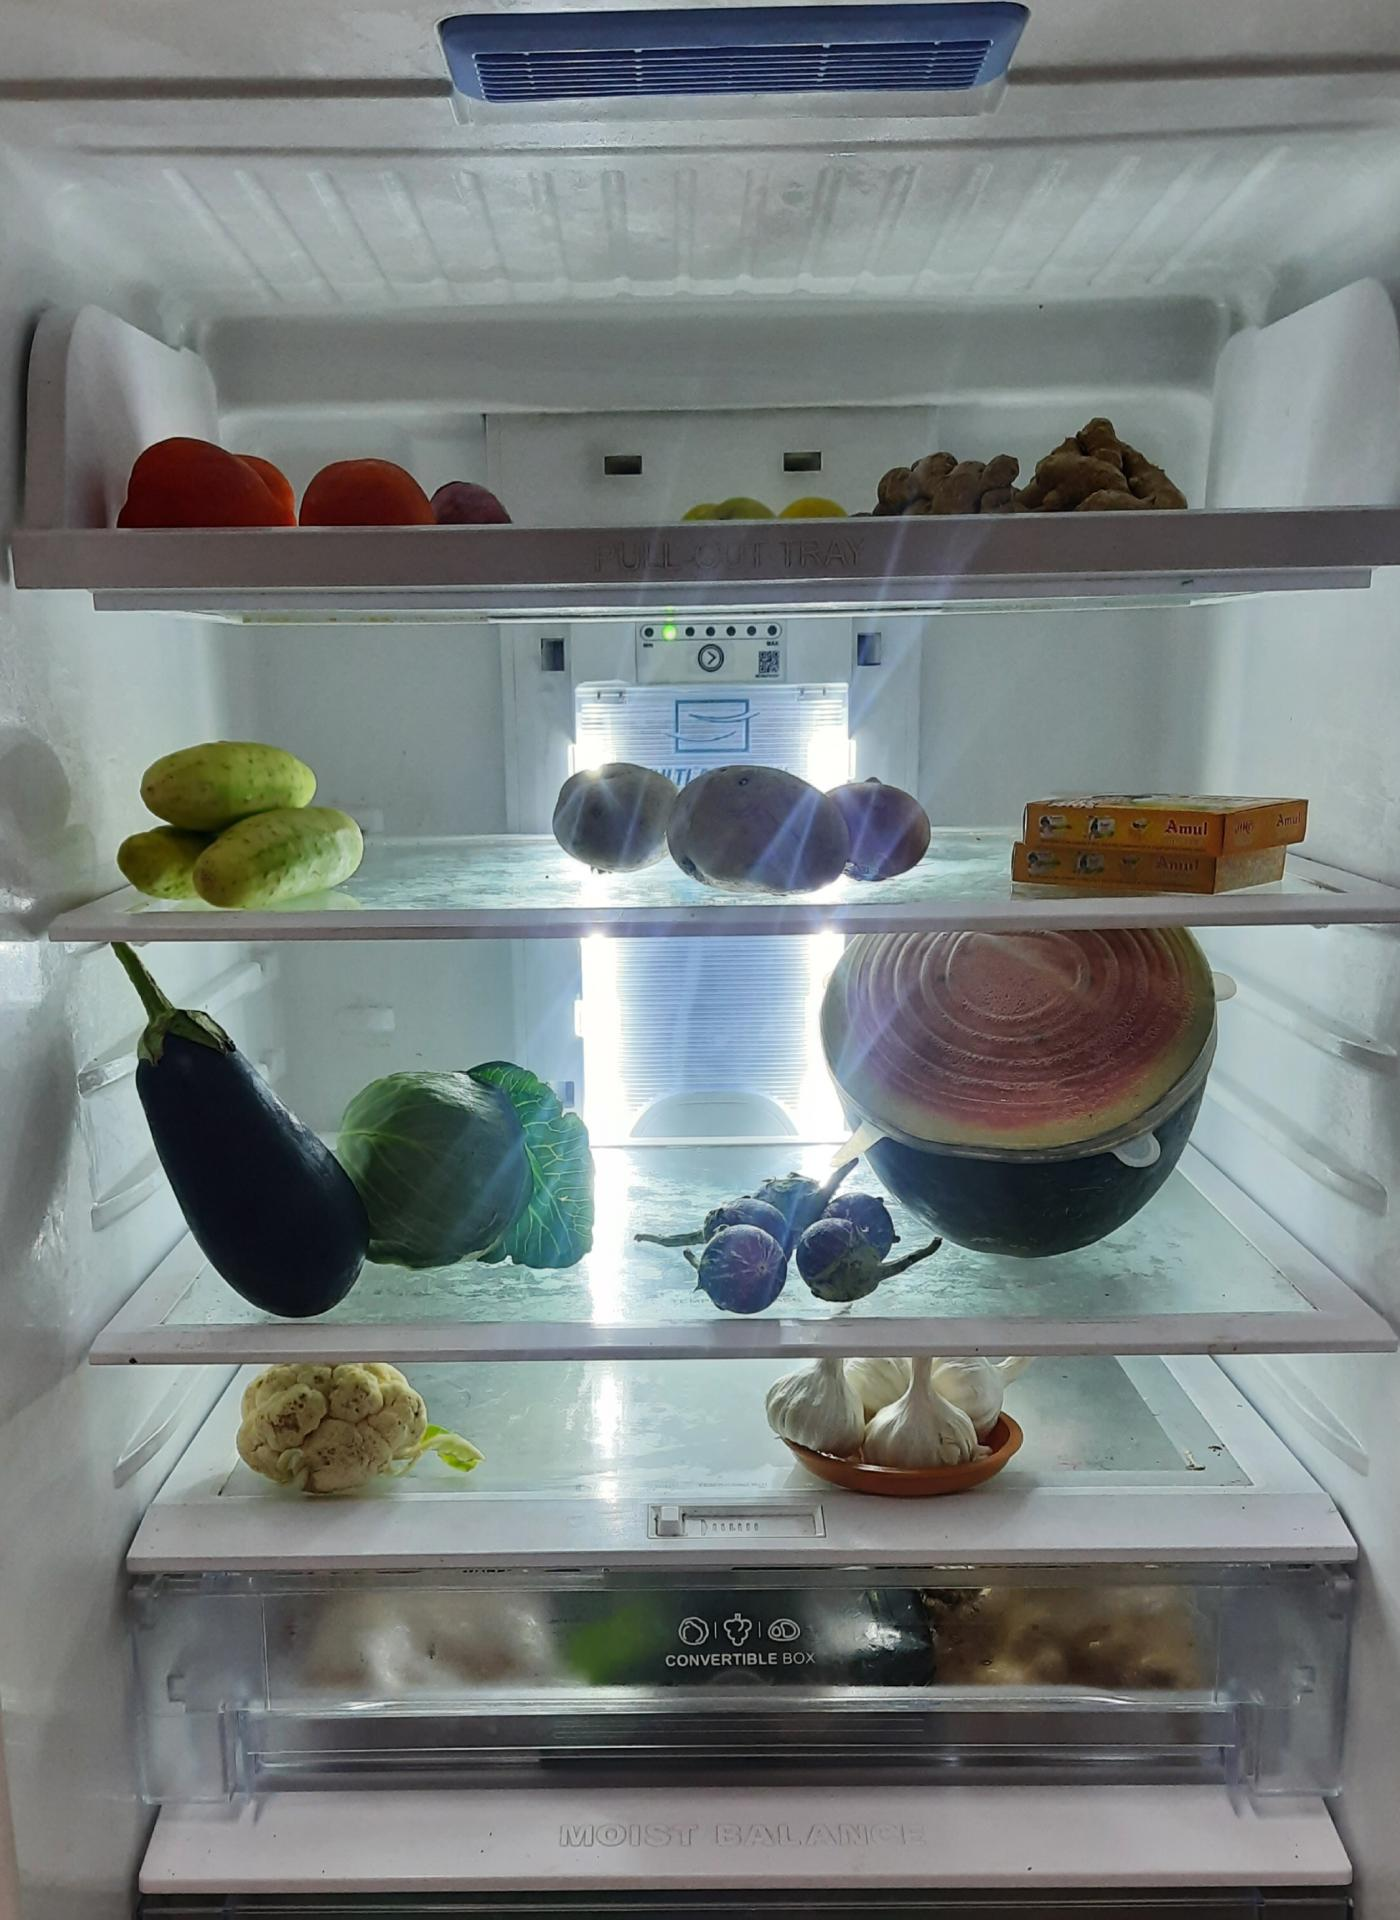brinjal: (79, 936, 364, 1330), (675, 1179, 939, 1310)
butter: (1018, 793, 1312, 890)
cabbage: (337, 1064, 590, 1273)
cauliflower: (233, 1364, 464, 1509)
cucumber: (115, 736, 374, 912)
garlic: (769, 1354, 1030, 1488)
ginger: (866, 414, 1197, 511)
lemon: (678, 495, 850, 523)
potato: (558, 759, 932, 900)
tomato: (118, 432, 508, 529)
watermelon: (811, 921, 1211, 1242)
